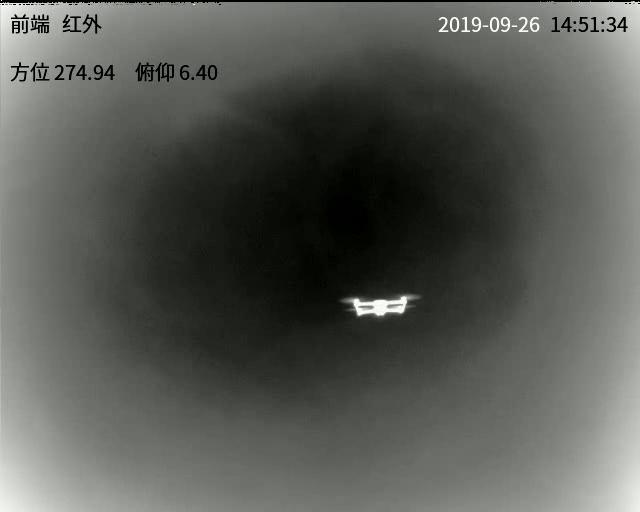DRONE: (346, 293, 416, 317)
